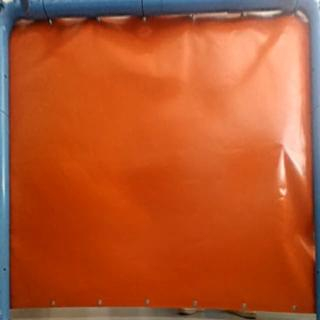Hit-hRxx: (276, 139, 289, 151)
